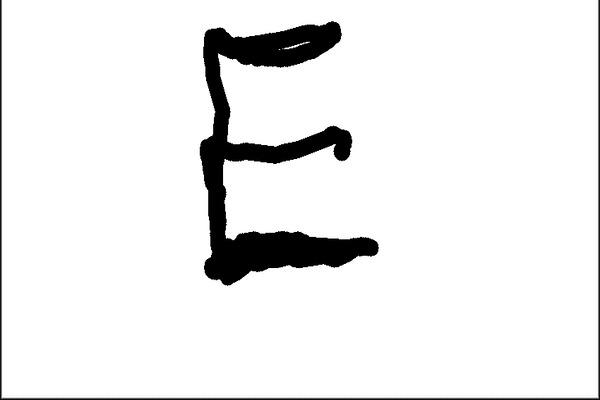E: (189, 16, 390, 288)
